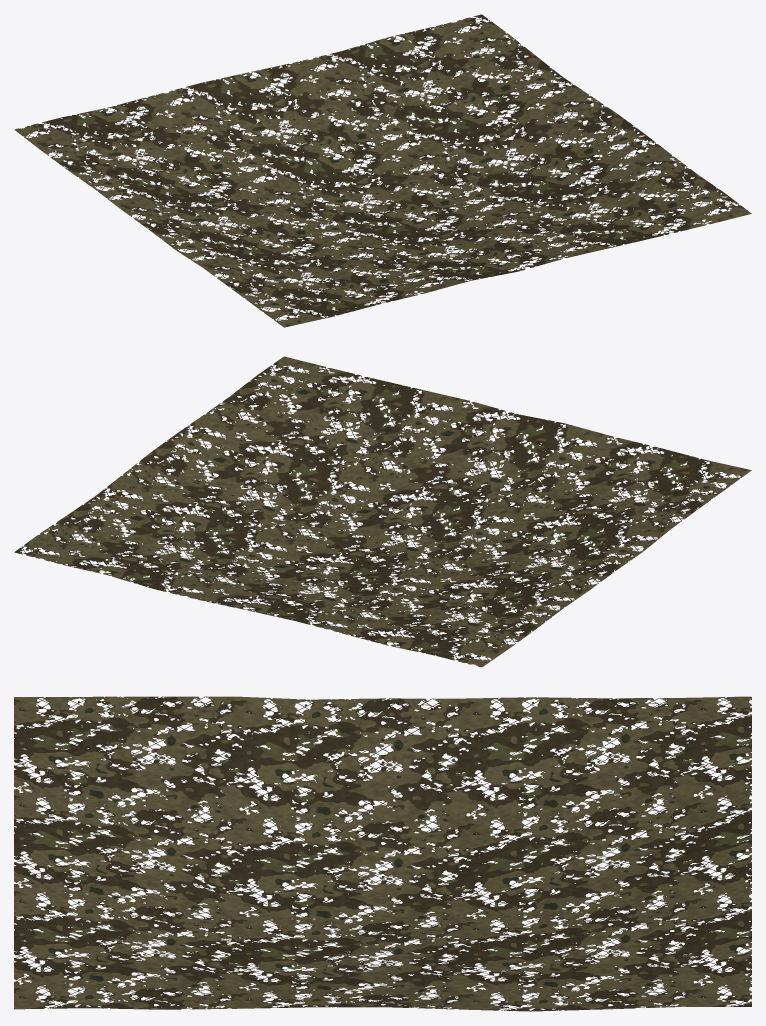
The model's file is S7U_CamoNet_Pit.fbx.
3 renders of one model, top to bottom at view 1: azimuth 30°, elevation 25°; view 2: azimuth 150°, elevation 25°; view 3: azimuth 270°, elevation 25°, orthographic. The views are drawn at different scales.
Parts seen in each view (by area): view 1: S7U_CamoNet_Pit; view 2: S7U_CamoNet_Pit; view 3: S7U_CamoNet_Pit.
Part boxes in pixels (x1,y1,x2,y2): S7U_CamoNet_Pit: (14, 14, 751, 327); S7U_CamoNet_Pit: (14, 356, 751, 667); S7U_CamoNet_Pit: (14, 696, 751, 1011).
Size of the model in its own units: 6.5 by 0.374 by 6.5.
